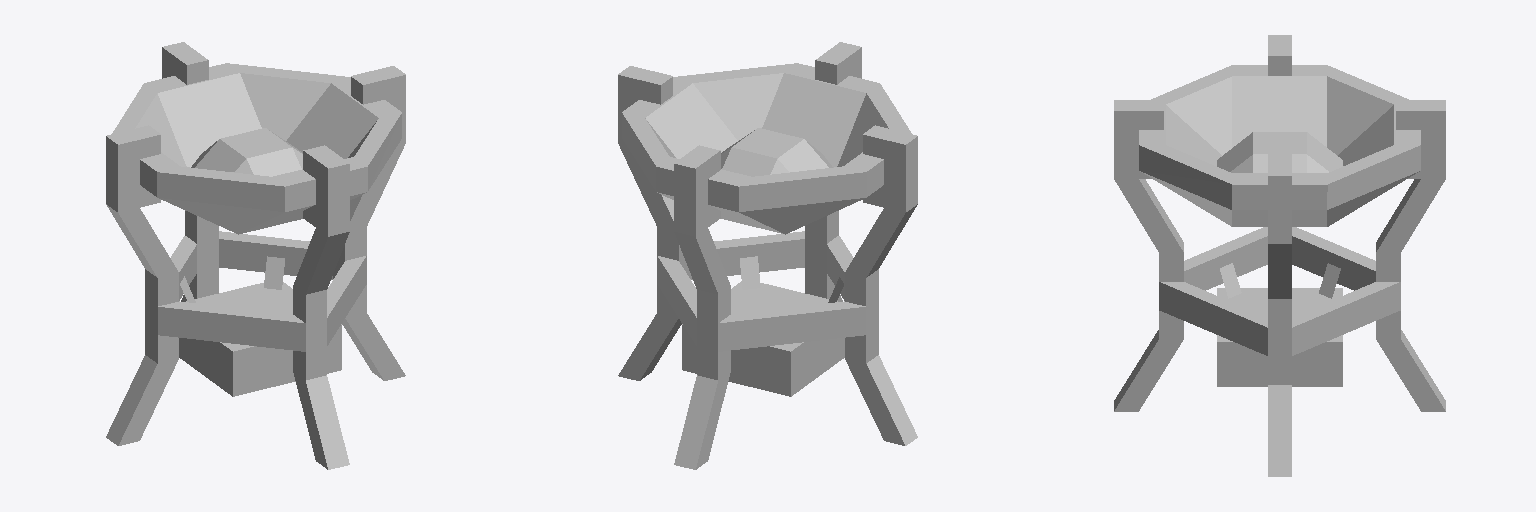
File: calciner.obj
The picture shows the model from 3 angles: view 1: azimuth 30°, elevation 25°; view 2: azimuth 150°, elevation 25°; view 3: azimuth 270°, elevation 25°; orthographic projection.
Visible parts, largest first — view 1: calciner, dust; view 2: calciner, dust; view 3: calciner, dust.
Boxes of the visible parts, <box> form: calciner: <box>106,42,405,469</box>; dust: <box>191,128,302,176</box>; calciner: <box>618,42,917,469</box>; dust: <box>721,128,832,176</box>; calciner: <box>1114,35,1445,476</box>; dust: <box>1217,132,1342,172</box>.
Bounding box in the file's own units: 1 × 1 × 1.